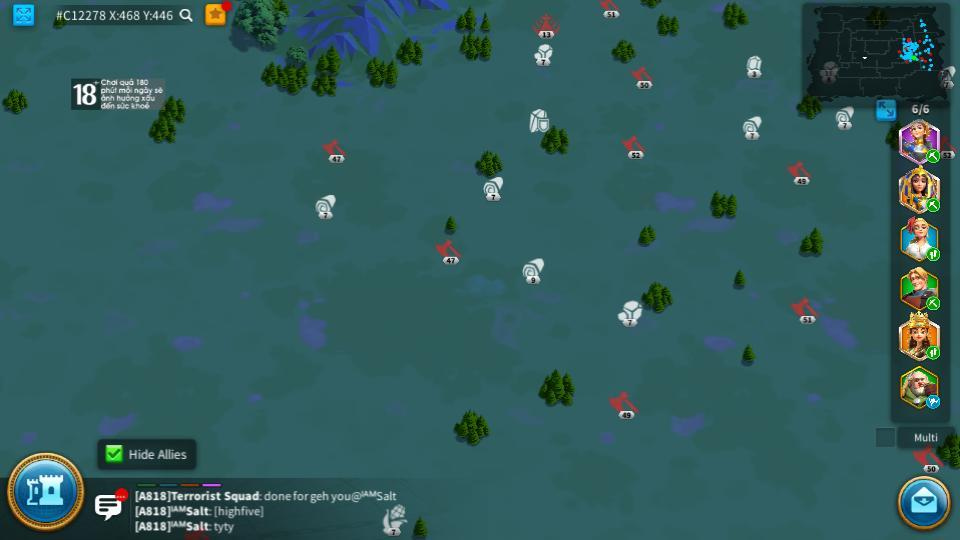gem-z-out: (745, 54, 763, 76)
march_idle: (925, 396, 942, 408)
march_marching: (925, 197, 941, 212), (925, 347, 941, 359), (925, 150, 941, 162), (925, 297, 942, 308), (925, 250, 942, 261)
